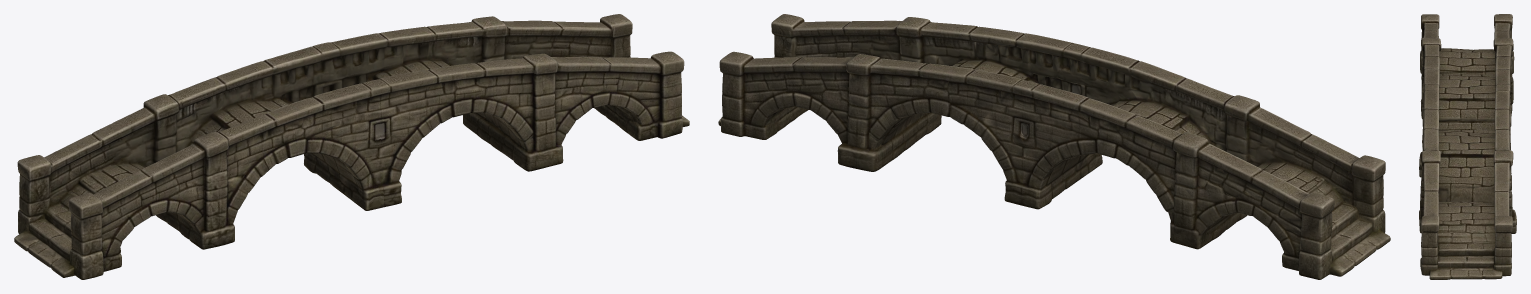
Rendered from lib_stone_bridge.glb.
The picture shows the model from 3 angles, left to right: view 1: azimuth 30°, elevation 25°; view 2: azimuth 150°, elevation 25°; view 3: azimuth 270°, elevation 25°; orthographic projection. The views are drawn at different scales.
Parts seen in each view (by area): view 1: mesh_node; view 2: mesh_node; view 3: mesh_node.
Boxes of the visible parts, x1,y1,x2,y2 form: mesh_node: (14,14,689,279); mesh_node: (718,14,1390,279); mesh_node: (1419,14,1516,279).
Bounding box in the file's own units: 1.9 × 0.3417 × 0.36.
1 material, 1 textured.
